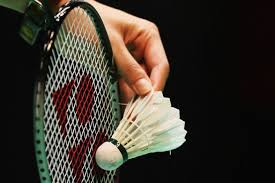shuttle: (90, 92, 190, 160)
